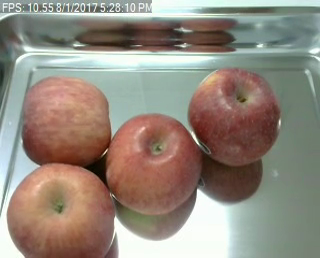Apple: (5, 161, 116, 258), (101, 111, 203, 216), (187, 65, 284, 167), (19, 73, 115, 168)
